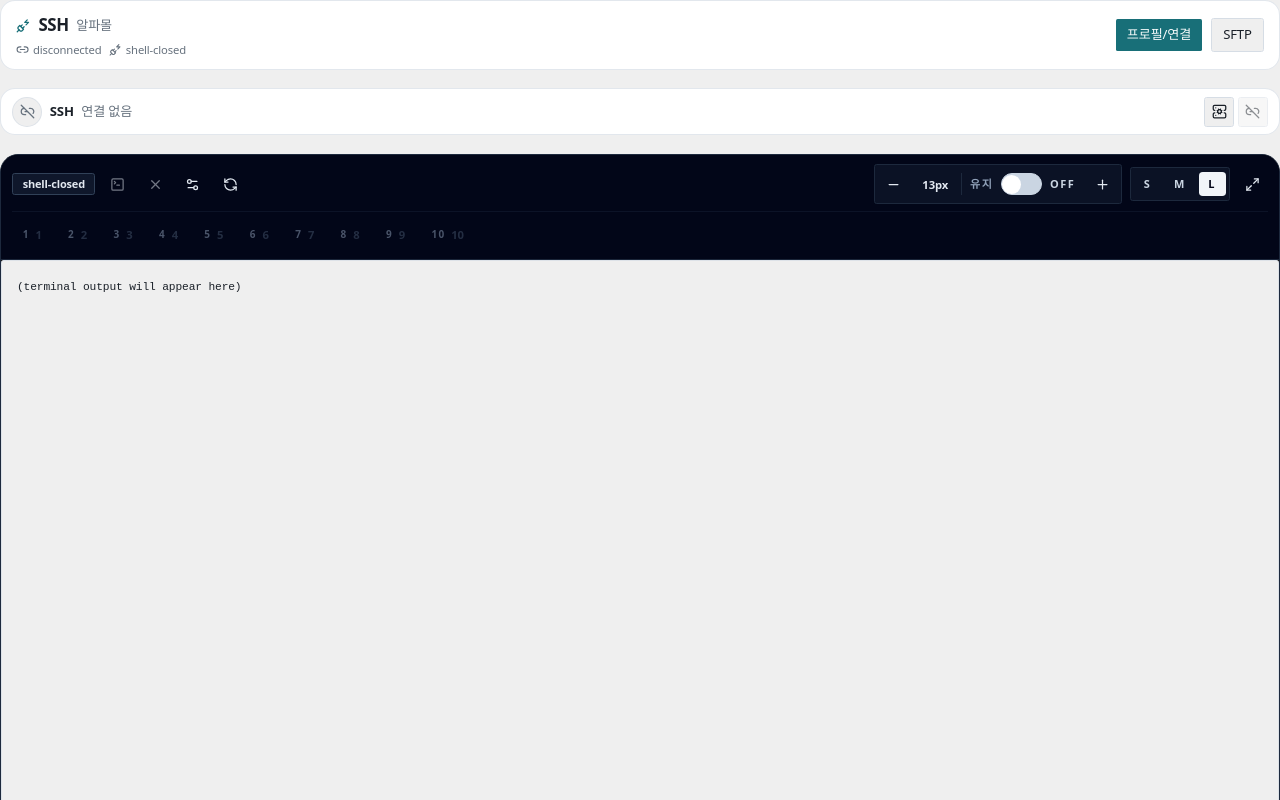
Scenario: SiteSshSessionPage › ignores host verification payloads that belong to a different profile
Click the button "프로필/연결".
click(1159, 35)  # box [1115,18,1203,52]
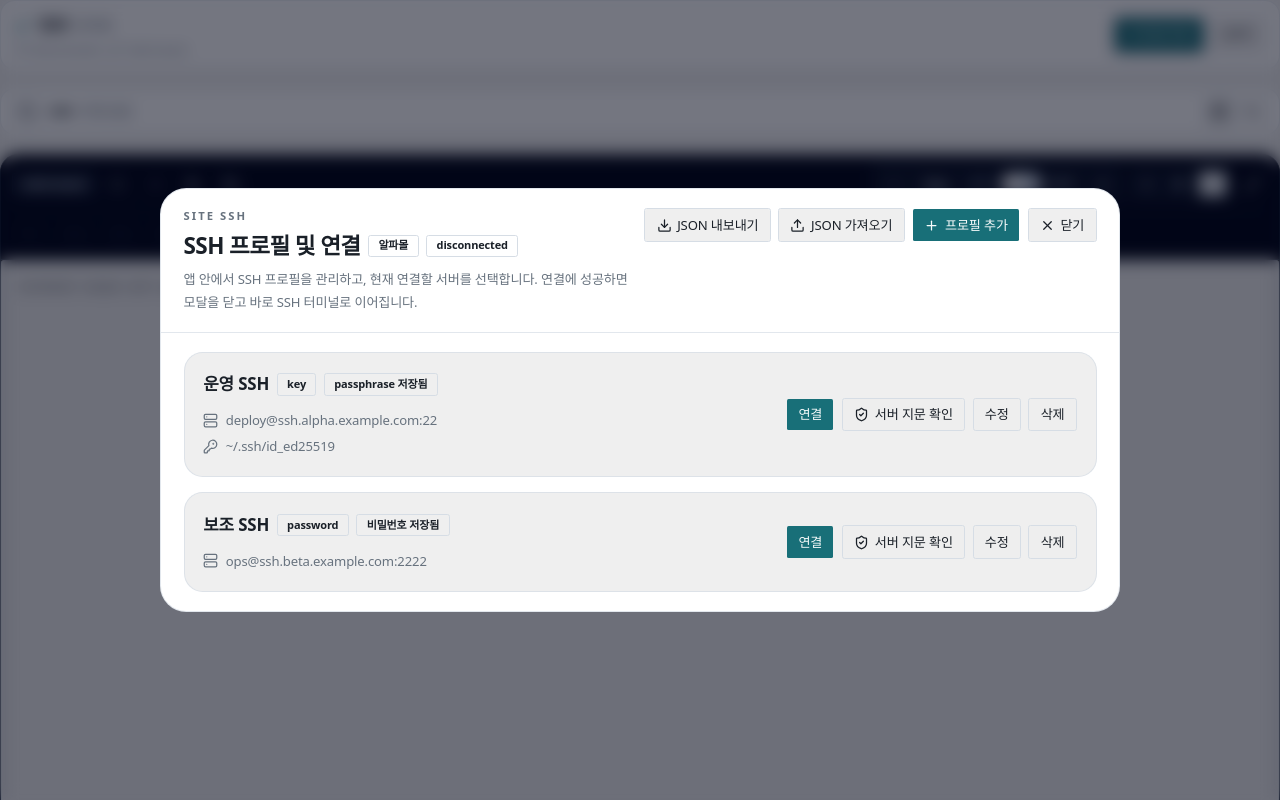
Click the button "서버 지문 확인" in the row of "ssh.alpha.example.com".
click(904, 414)  # box [842,398,965,431]
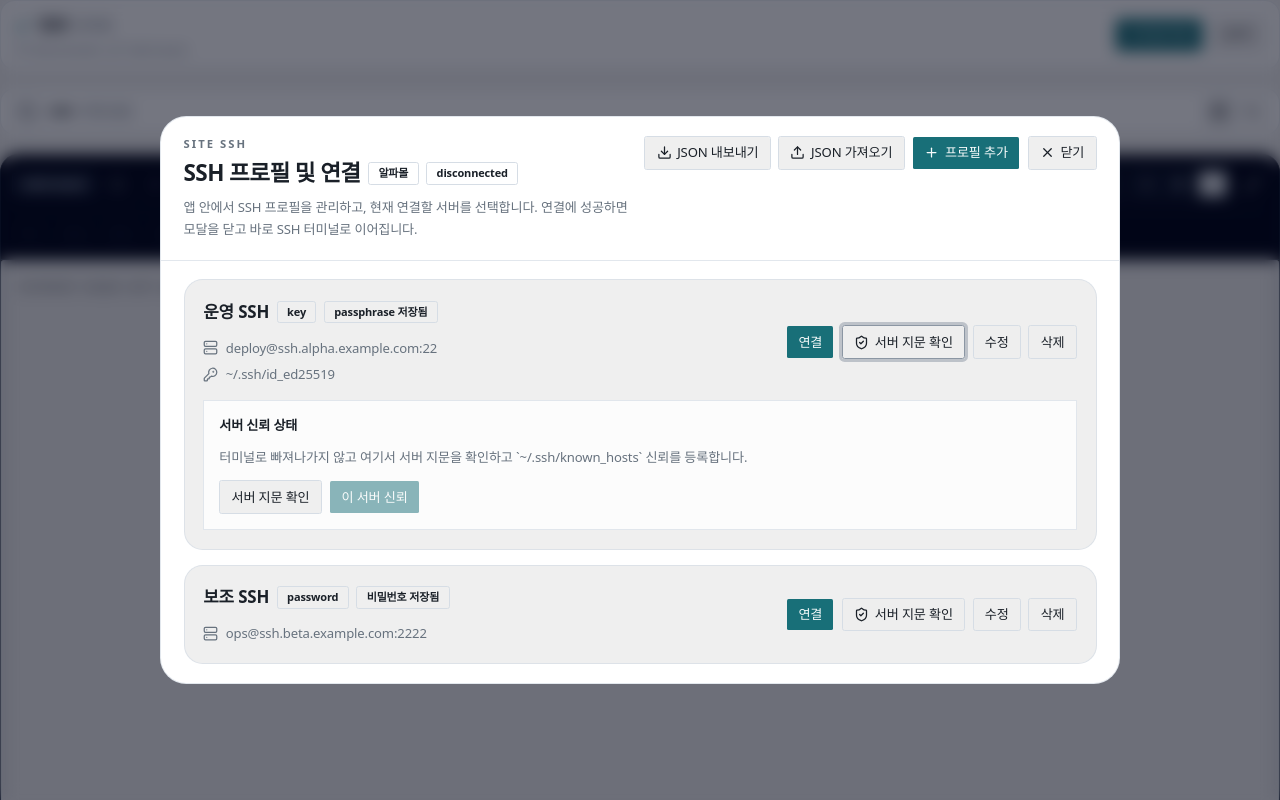
Now the text "서버 신뢰 상태" is shown, box [219,416,297,435]
Now the button "이 서버 신뢰" is disabled, box [329,480,420,514]
